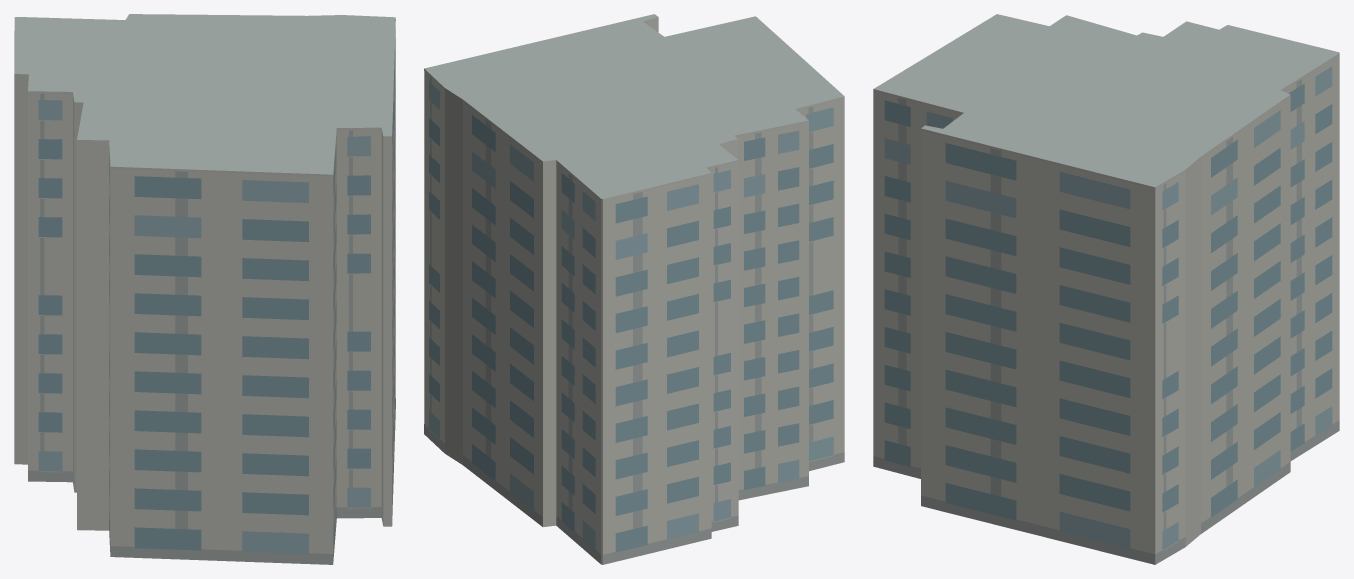
Rendered from survey-upis-32734670.glb.
The picture shows the model from 3 angles, left to right: view 1: azimuth 30°, elevation 25°; view 2: azimuth 150°, elevation 25°; view 3: azimuth 270°, elevation 25°; orthographic projection. The views are drawn at different scales.
Visible parts, largest first — view 1: survey-upis-32734670.tmp; view 2: survey-upis-32734670.tmp; view 3: survey-upis-32734670.tmp.
Boxes of the visible parts, x1,y1,x2,y2 form: survey-upis-32734670.tmp: [14, 14, 395, 564]; survey-upis-32734670.tmp: [424, 14, 844, 564]; survey-upis-32734670.tmp: [873, 14, 1339, 564].
Bounding box in the file's own units: 39.43 × 40.05 × 44.81.
